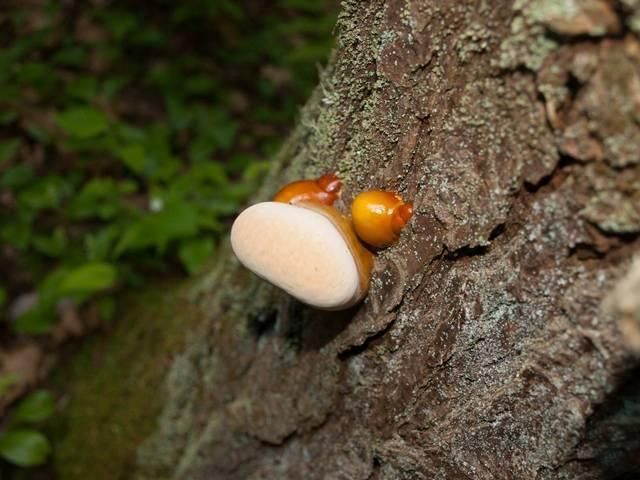poisonous_mushroom: (228, 197, 375, 312), (350, 188, 413, 249)
